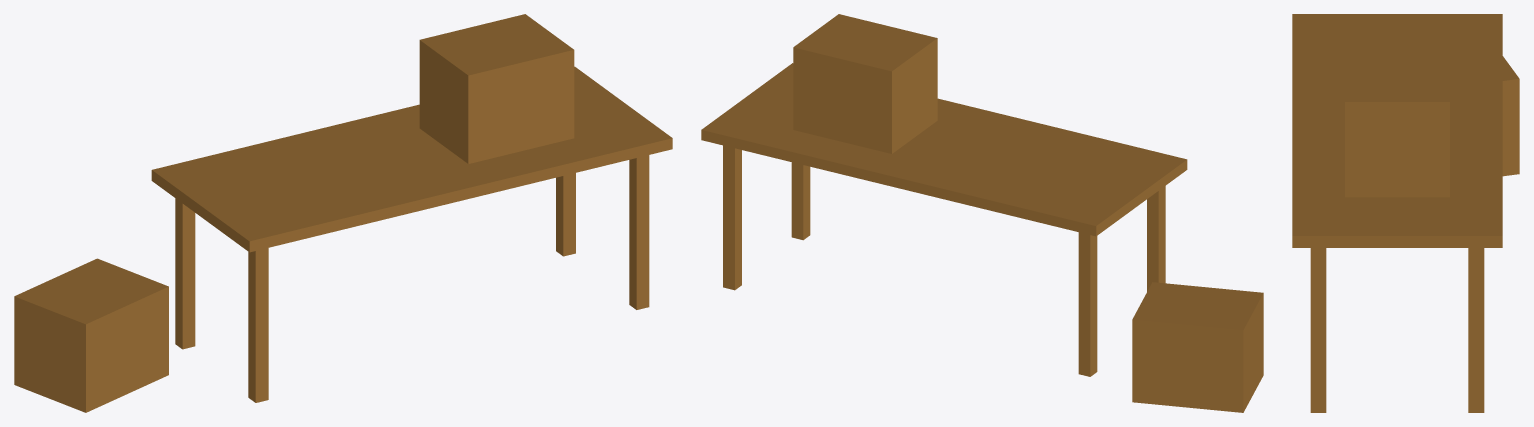
File: SM_CocinaCampana_v4_Recogida_LOD0.fbx
The picture shows the model from 3 angles, left to right: view 1: azimuth 30°, elevation 25°; view 2: azimuth 150°, elevation 25°; view 3: azimuth 270°, elevation 25°; orthographic projection. The views are drawn at different scales.
Visible parts, largest first — view 1: SM_vida_fuerte_v24_LOD0; view 2: SM_vida_fuerte_v24_LOD0; view 3: SM_vida_fuerte_v24_LOD0.
Boxes of the visible parts, x1,y1,x2,y2 form: SM_vida_fuerte_v24_LOD0: (14,14,672,412); SM_vida_fuerte_v24_LOD0: (701,14,1263,412); SM_vida_fuerte_v24_LOD0: (1292,14,1519,412).
Size of the model in its own units: 2.7 by 1.18 by 0.8649.
